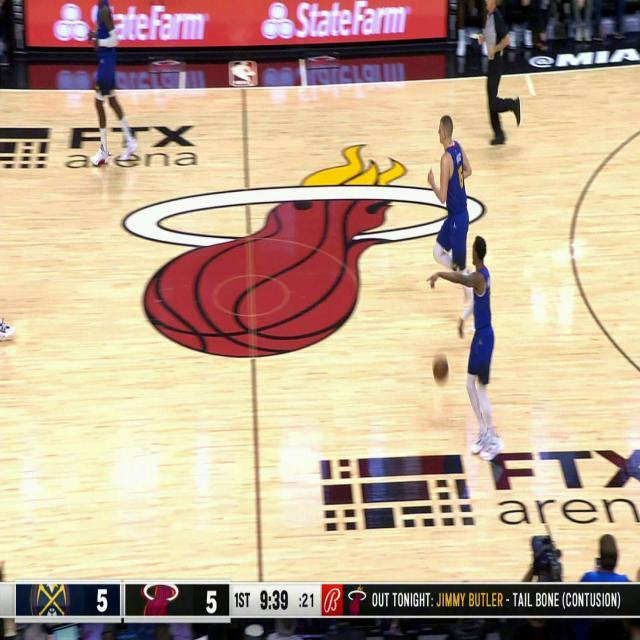rim: (434, 354, 449, 382)
